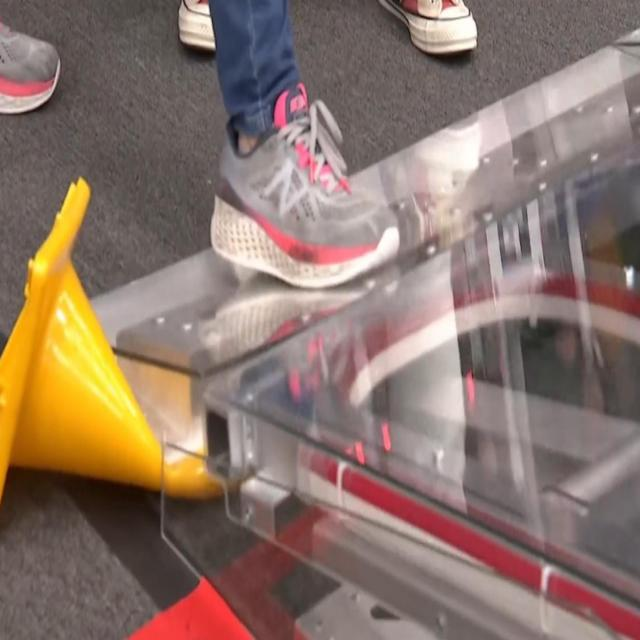frc_cone: (0, 173, 240, 563)
